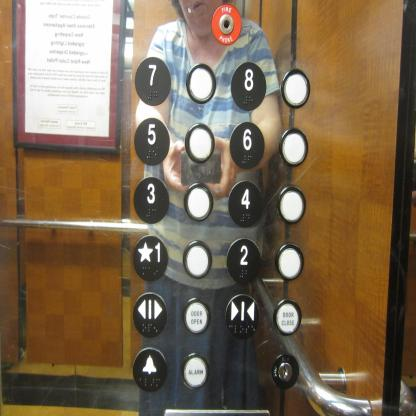2: (225, 236, 265, 288)
3: (131, 172, 171, 226)
4: (226, 177, 265, 231)
5: (132, 115, 171, 168)
6: (228, 118, 267, 172)
7: (133, 54, 173, 108)
8: (229, 59, 269, 113)
alarm: (132, 342, 169, 394)
close: (224, 291, 262, 343)
empty: (180, 236, 214, 281), (184, 60, 217, 106), (181, 178, 214, 224), (184, 120, 216, 165), (274, 240, 306, 282), (276, 184, 308, 226), (278, 125, 309, 167), (279, 67, 310, 109)
keyhole: (211, 2, 242, 44), (271, 352, 300, 389)
open: (130, 290, 170, 339)
s1: (131, 232, 171, 284)
text_alarm bell: (180, 350, 210, 392)
text_door close: (274, 296, 304, 338)
text_door open: (181, 294, 212, 337)
